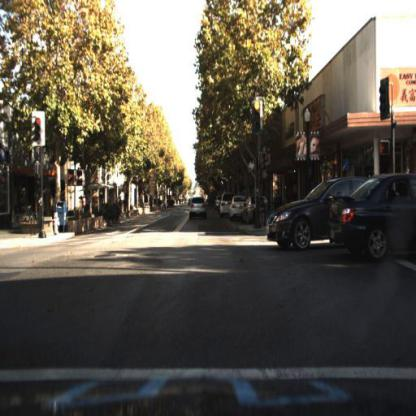car: (265, 172, 381, 255), (330, 172, 416, 265), (186, 187, 213, 224), (245, 195, 271, 225)
trafficLight-Red: (33, 112, 45, 144), (252, 98, 262, 134)
